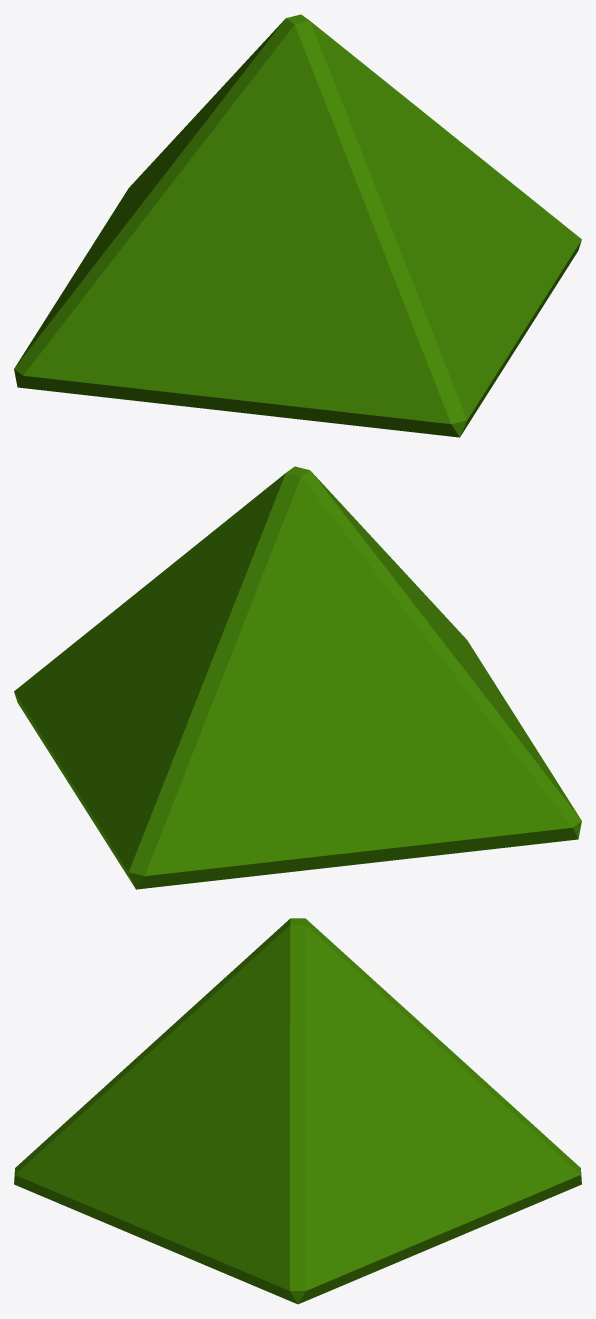
File: SLIME piramide V2.fbx
The picture shows the model from 3 angles, top to bottom: view 1: azimuth 30°, elevation 25°; view 2: azimuth 150°, elevation 25°; view 3: azimuth 270°, elevation 25°; orthographic projection. The views are drawn at different scales.
Parts seen in each view (by area): view 1: gewone_piramide1; view 2: gewone_piramide1; view 3: gewone_piramide1.
Part boxes in pixels (left/top/right/bottom): gewone_piramide1: left=14, top=14, right=581, bottom=437; gewone_piramide1: left=14, top=466, right=581, bottom=889; gewone_piramide1: left=14, top=918, right=581, bottom=1304.
Size of the model in its own units: 98.89 by 50.46 by 98.89.
